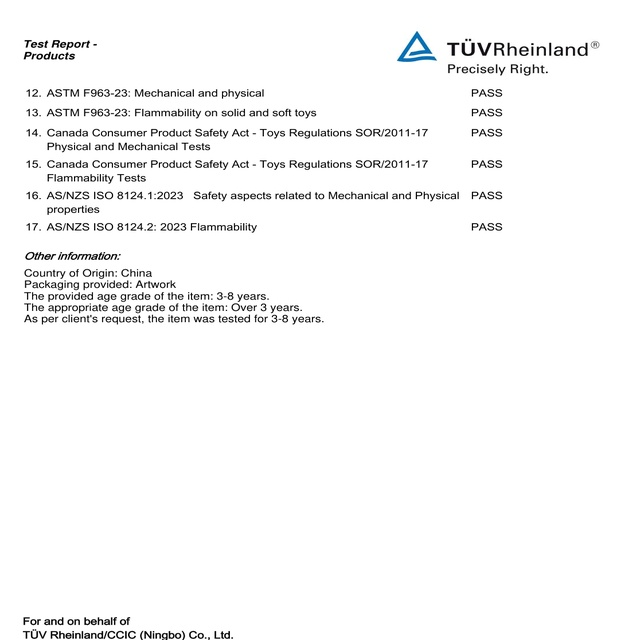tuv_rheinland: (395, 29, 610, 64)
